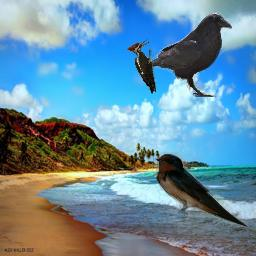Crow: (141, 12, 233, 97)
Swallow: (153, 152, 249, 229)
Woodpecker: (126, 39, 156, 94)
